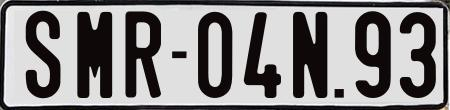0: (195, 11, 229, 97)
3: (398, 9, 433, 98)
4: (241, 12, 283, 100)
9: (353, 11, 395, 99)
M: (75, 11, 115, 100)
N: (290, 12, 330, 104)
R: (124, 9, 166, 98)
S: (25, 11, 61, 102)
